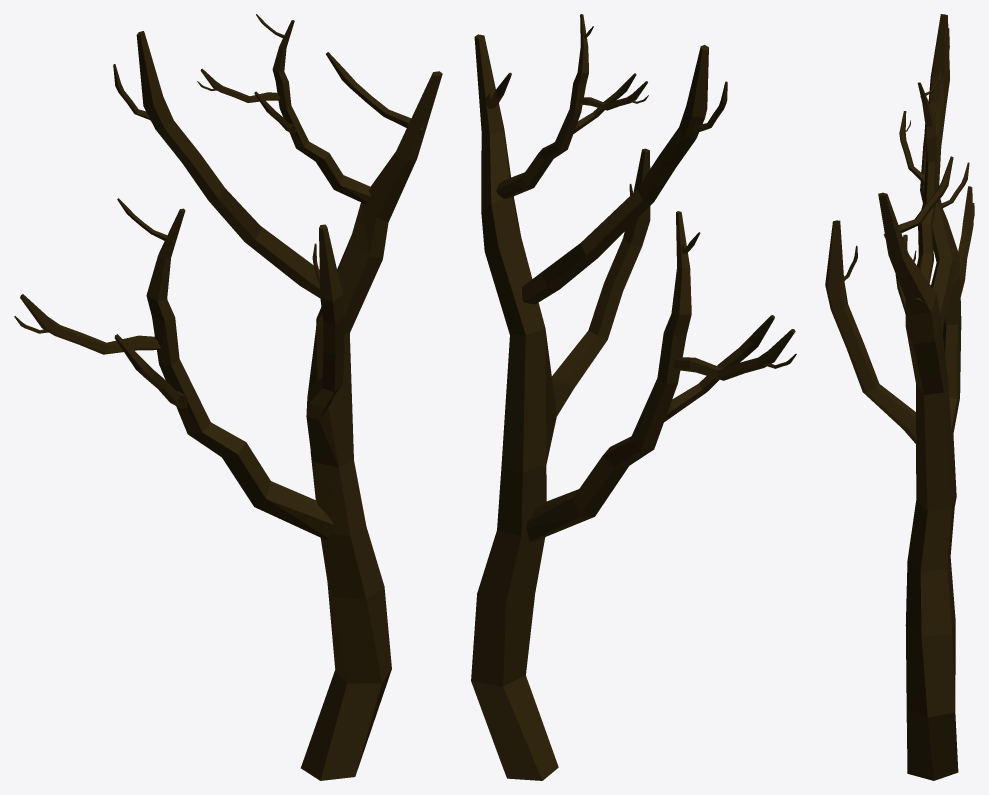
The model's file is HellTree1.fbx.
The picture shows the model from 3 angles, left to right: view 1: azimuth 30°, elevation 25°; view 2: azimuth 150°, elevation 25°; view 3: azimuth 270°, elevation 25°; orthographic projection. The views are drawn at different scales.
Parts seen in each view (by area): view 1: Cylinder.000; view 2: Cylinder.000; view 3: Cylinder.000.
Part boxes in pixels (box(x1,y1,x2,y2)): Cylinder.000: box(14, 14, 442, 780); Cylinder.000: box(471, 14, 796, 780); Cylinder.000: box(825, 14, 974, 780).
Bounding box in the file's own units: 267 × 530 × 106.
